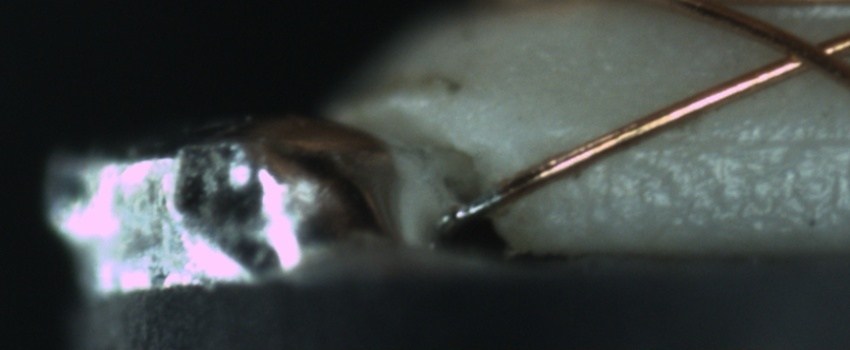CL: (759, 23, 848, 79)
DL: (630, 111, 850, 171)
TS: (439, 187, 502, 230)
